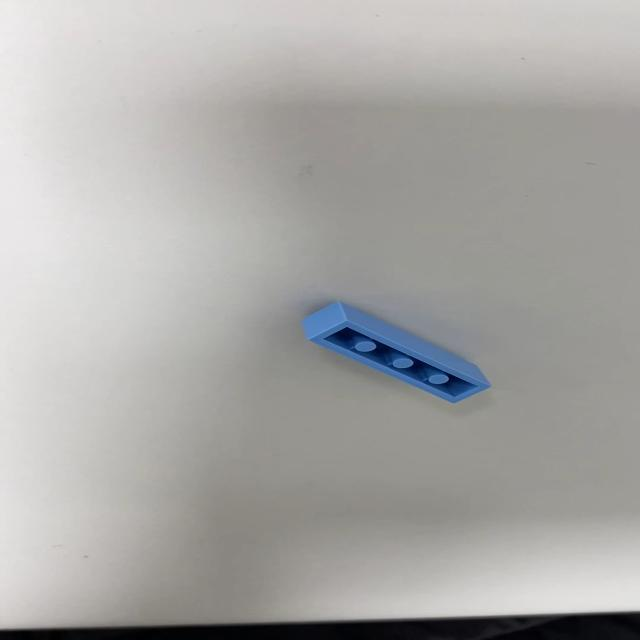C4x1x1: (300, 300, 492, 404)
